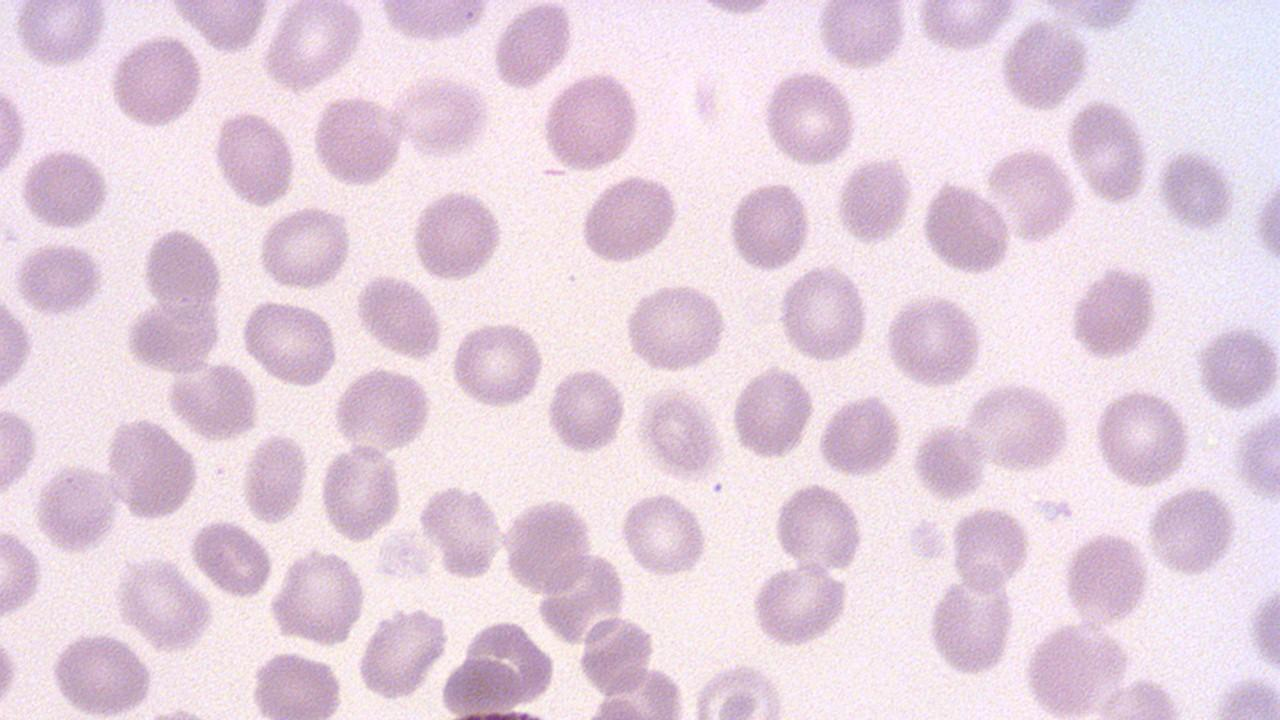Platelets: (1066, 264, 1160, 362), (1155, 145, 1239, 234)
RBC: (540, 69, 644, 173), (1091, 387, 1193, 489), (959, 382, 1071, 474), (880, 292, 986, 389), (104, 417, 200, 524), (759, 68, 859, 170), (622, 281, 730, 374), (576, 172, 683, 265), (925, 570, 1017, 678), (982, 144, 1078, 247), (269, 548, 368, 646), (1066, 262, 1162, 363), (776, 262, 869, 365), (1067, 96, 1153, 207), (260, 2, 366, 92), (108, 32, 205, 130), (918, 177, 1012, 278), (331, 365, 436, 455), (1060, 528, 1152, 630), (409, 188, 505, 284), (238, 298, 340, 388), (310, 92, 404, 189), (388, 74, 494, 160), (748, 562, 852, 648), (998, 16, 1091, 112), (417, 481, 505, 582), (47, 633, 155, 715), (356, 606, 448, 702), (770, 482, 866, 574), (448, 320, 546, 410), (211, 108, 298, 209), (1144, 485, 1238, 578), (637, 384, 723, 484), (318, 441, 402, 543), (353, 271, 447, 362), (255, 205, 354, 291), (18, 145, 113, 234), (727, 176, 813, 274), (163, 356, 260, 442), (618, 491, 710, 578), (731, 364, 814, 460), (32, 463, 119, 553), (1194, 321, 1278, 413), (138, 225, 226, 312), (544, 363, 626, 456), (816, 391, 902, 479), (949, 504, 1031, 596), (492, 0, 574, 92), (835, 154, 914, 248), (186, 516, 274, 600), (11, 242, 108, 316), (240, 430, 312, 525), (814, 0, 910, 71), (577, 612, 657, 697), (10, 1, 108, 70), (910, 420, 989, 504), (245, 652, 345, 718), (914, 1, 1018, 54), (438, 654, 523, 717), (373, 0, 493, 44), (1232, 409, 1280, 502), (0, 526, 46, 618), (0, 406, 41, 498), (0, 288, 35, 393), (0, 71, 30, 186), (1248, 582, 1280, 682), (1250, 174, 1280, 268)
